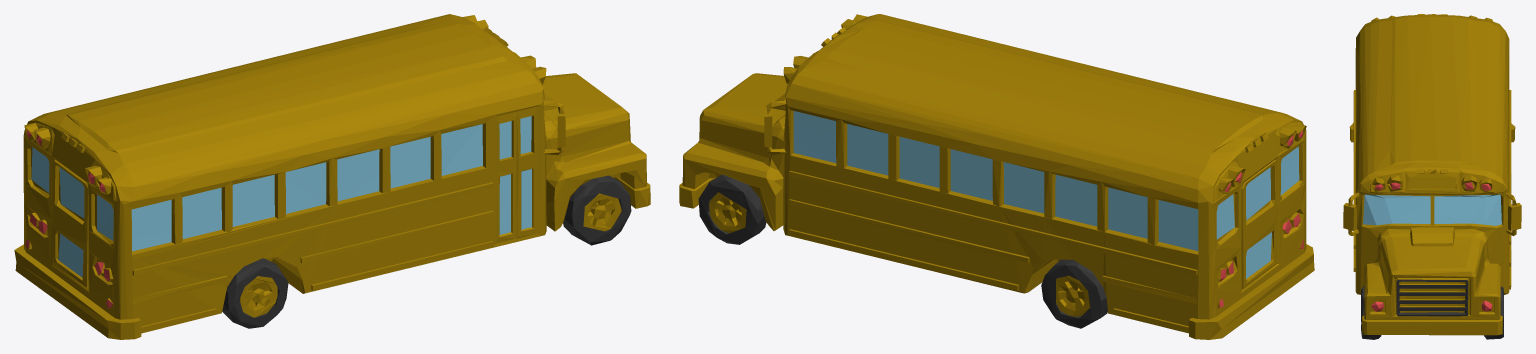
The model's file is Bus.fbx.
3 renders of one model, left to right at view 1: azimuth 30°, elevation 25°; view 2: azimuth 150°, elevation 25°; view 3: azimuth 270°, elevation 25°, orthographic. The views are drawn at different scales.
Visible parts, largest first — view 1: 18563_Type_B_North_American_School_Bus_v2.001; view 2: 18563_Type_B_North_American_School_Bus_v2.001; view 3: 18563_Type_B_North_American_School_Bus_v2.001.
Part boxes in pixels (left/top/right/bottom): 18563_Type_B_North_American_School_Bus_v2.001: left=14, top=14, right=650, bottom=339; 18563_Type_B_North_American_School_Bus_v2.001: left=679, top=14, right=1314, bottom=339; 18563_Type_B_North_American_School_Bus_v2.001: left=1343, top=14, right=1521, bottom=339.
Bounding box in the file's own units: 998 × 340 × 371.
